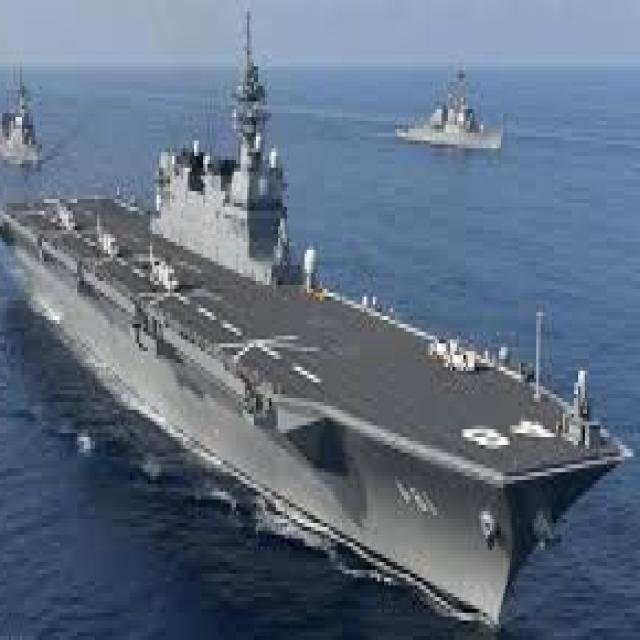navalvessels: (0, 31, 625, 613), (392, 67, 507, 159), (0, 58, 44, 168)
